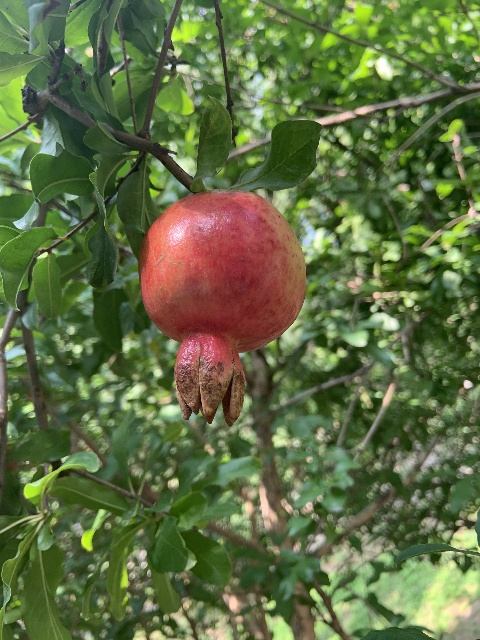ripe: (138, 190, 307, 427)
